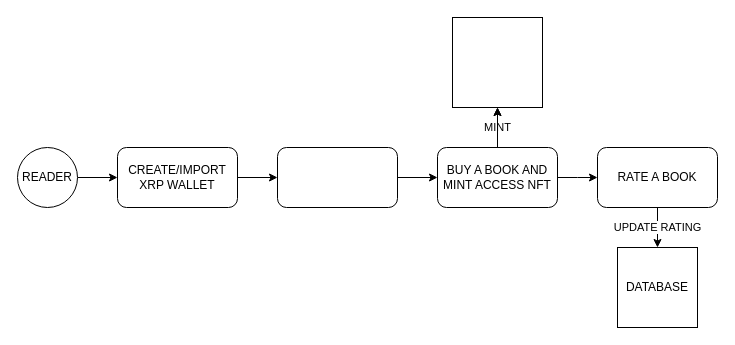
Some shapes in this 735 by 345 pixel diagram are drawn without their labels. The centre of each missing label's shape, as x and y in pixels:
"NFTokenMint" goes at pixel 497 62.
"READ FREE CHAPTERS OF A BOOK" goes at pixel 337 177.
